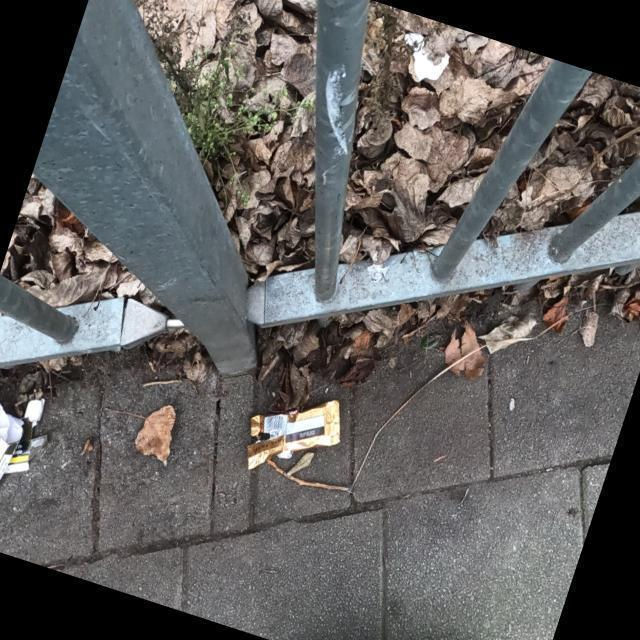Paper: (0, 392, 50, 484), (404, 31, 452, 83)
Plastic: (246, 398, 342, 469)
